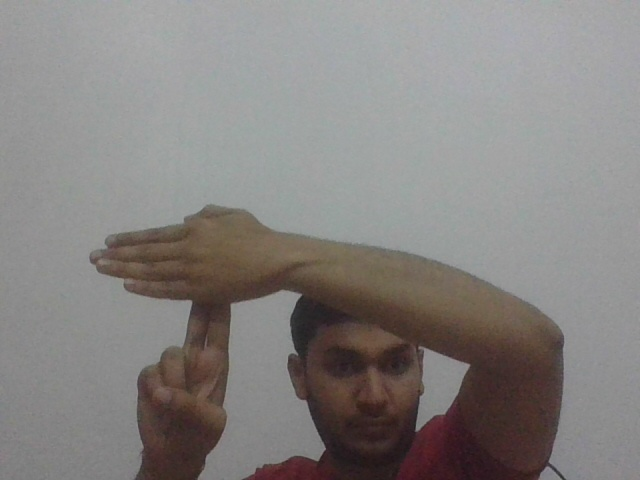N: (88, 203, 263, 348)
